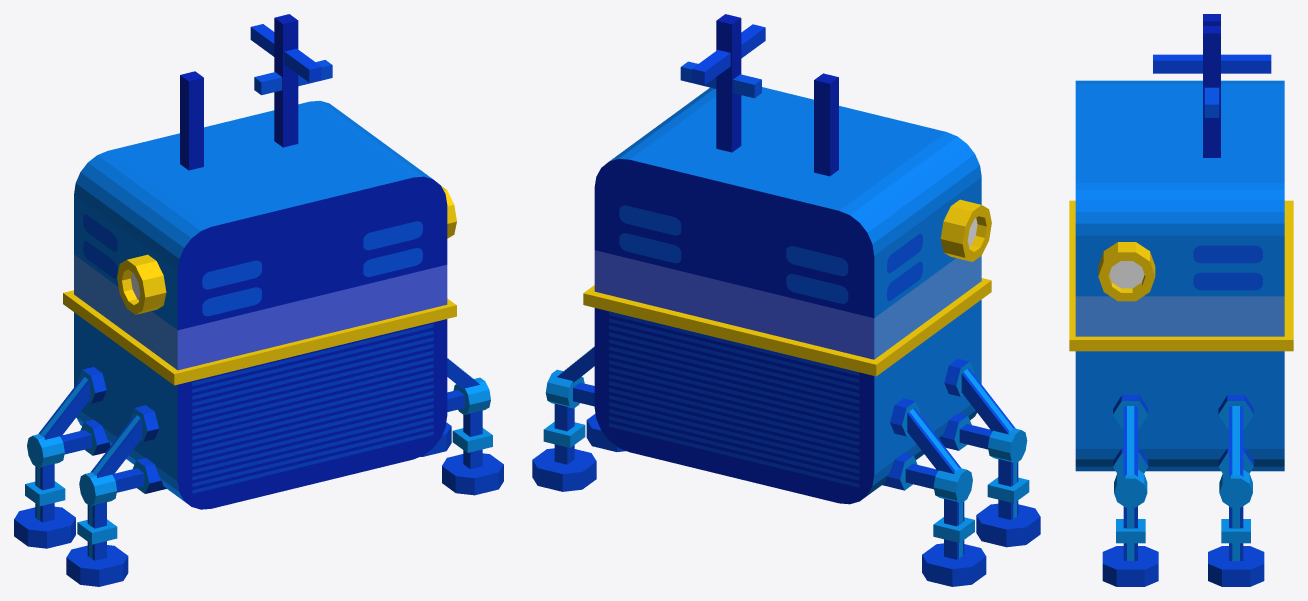
File: Building_038_a.fbx
3 views of the same model, side by side, from view 1: azimuth 30°, elevation 25°; view 2: azimuth 150°, elevation 25°; view 3: azimuth 270°, elevation 25° (orthographic). The views are drawn at different scales.
Visible parts, largest first — view 1: Building_038_a; view 2: Building_038_a; view 3: Building_038_a.
Boxes of the visible parts, box(x1,y1,x2,y2) form: Building_038_a: box(14, 14, 503, 586); Building_038_a: box(532, 14, 1040, 586); Building_038_a: box(1069, 14, 1293, 586).
Bounding box in the file's own units: 27.85 × 29.49 × 12.67.
